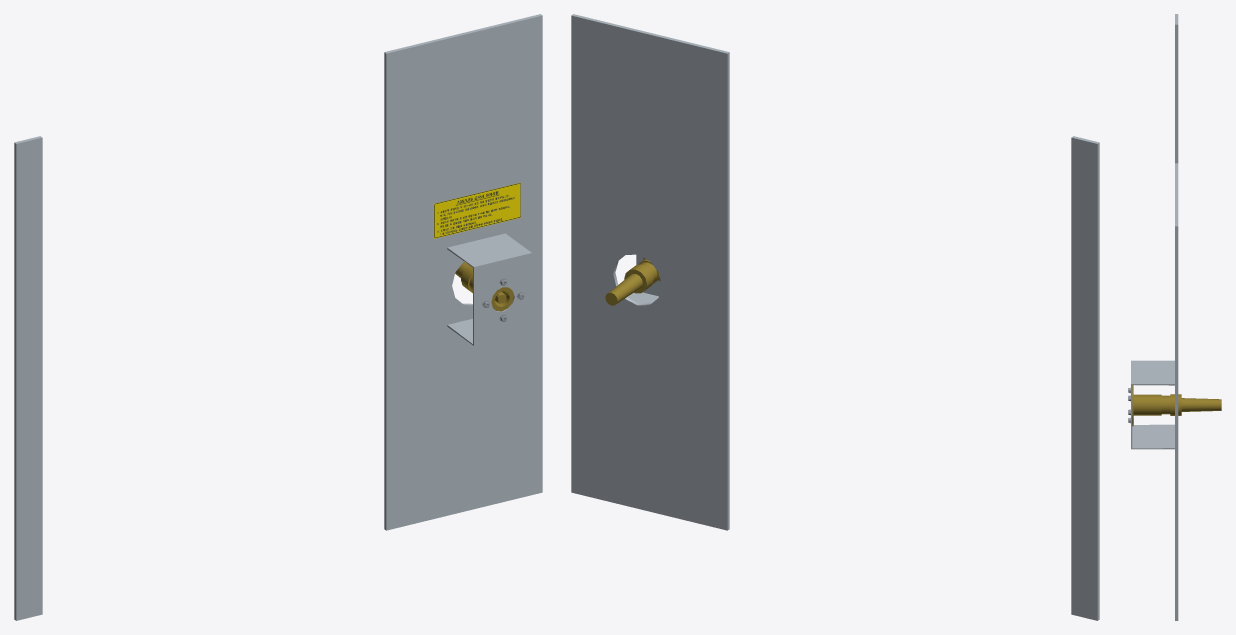
Rendered from LBS_INNER_DOOR_BORN.fbx.
3 views of the same model, side by side, from view 1: azimuth 30°, elevation 25°; view 2: azimuth 150°, elevation 25°; view 3: azimuth 270°, elevation 25° (orthographic). The views are drawn at different scales.
Parts seen in each view (by area): view 1: LBS_INNER_DOOR_BORN; view 2: LBS_INNER_DOOR_BORN; view 3: LBS_INNER_DOOR_BORN.
Boxes of the visible parts, box(x1,y1,x2,y2) form: LBS_INNER_DOOR_BORN: box(14, 14, 542, 620); LBS_INNER_DOOR_BORN: box(571, 14, 1099, 620); LBS_INNER_DOOR_BORN: box(1128, 14, 1221, 620).
Size of the model in its own units: 1.2 by 1.04 by 0.2231.
2 materials, 2 textured.
